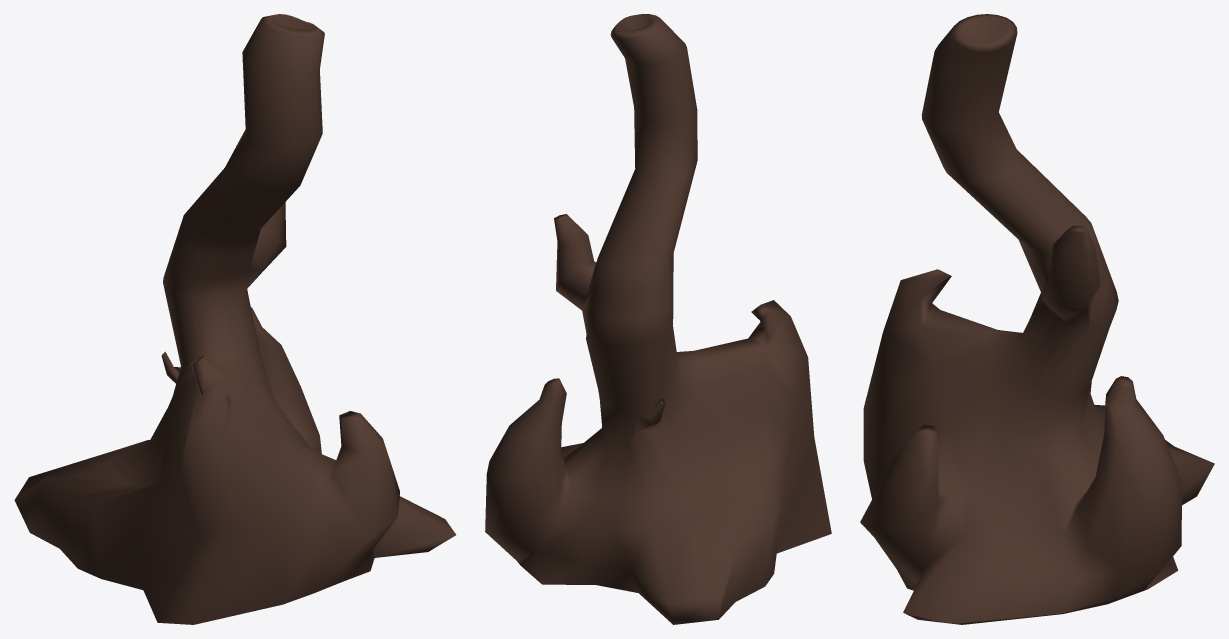
The model's file is sm_tree_04.fbx.
The picture shows the model from 3 angles, left to right: view 1: azimuth 30°, elevation 25°; view 2: azimuth 150°, elevation 25°; view 3: azimuth 270°, elevation 25°; orthographic projection. The views are drawn at different scales.
Parts seen in each view (by area): view 1: sm_tree_04; view 2: sm_tree_04; view 3: sm_tree_04.
Boxes of the visible parts, <box> form: sm_tree_04: <box>14,14,455,624</box>; sm_tree_04: <box>485,14,831,624</box>; sm_tree_04: <box>860,14,1214,624</box>.
Size of the model in its own units: 4.89 by 7.73 by 4.58.
